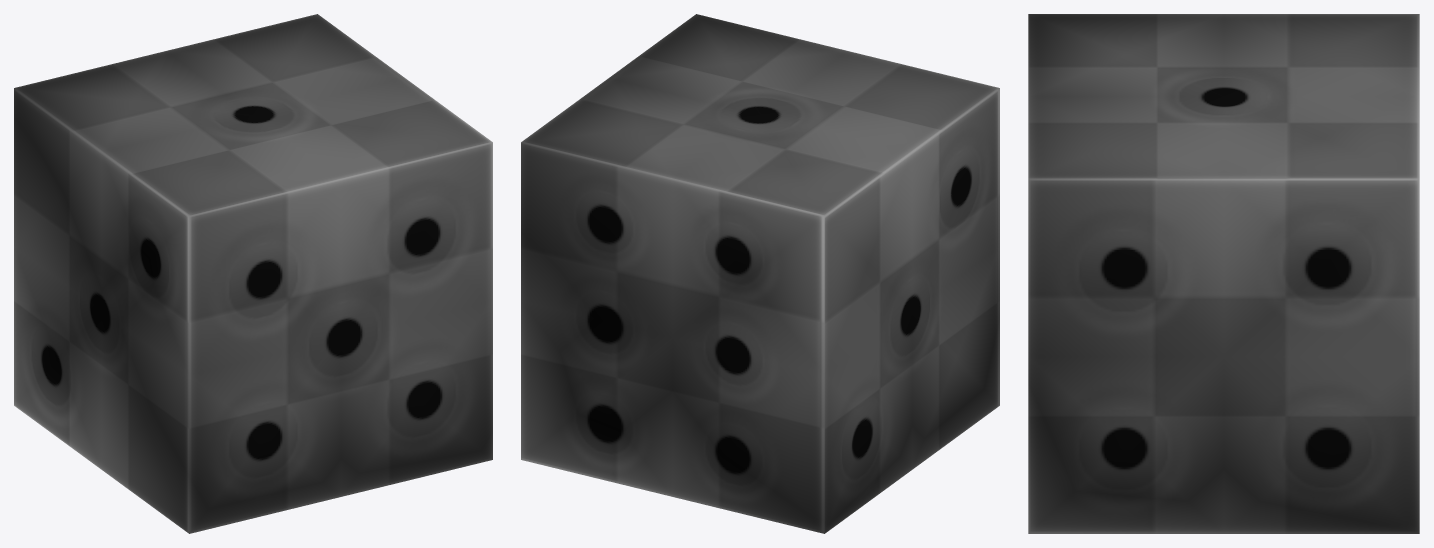
The model's file is dice96.FBX.
The picture shows the model from 3 angles, left to right: view 1: azimuth 30°, elevation 25°; view 2: azimuth 150°, elevation 25°; view 3: azimuth 270°, elevation 25°; orthographic projection. The views are drawn at different scales.
Visible parts, largest first — view 1: Dice; view 2: Dice; view 3: Dice.
Boxes of the visible parts, bbox=[...] form: Dice: bbox=[14, 14, 492, 533]; Dice: bbox=[521, 14, 999, 533]; Dice: bbox=[1028, 14, 1419, 533].
Bounding box in the file's own units: 100 × 100 × 100.
